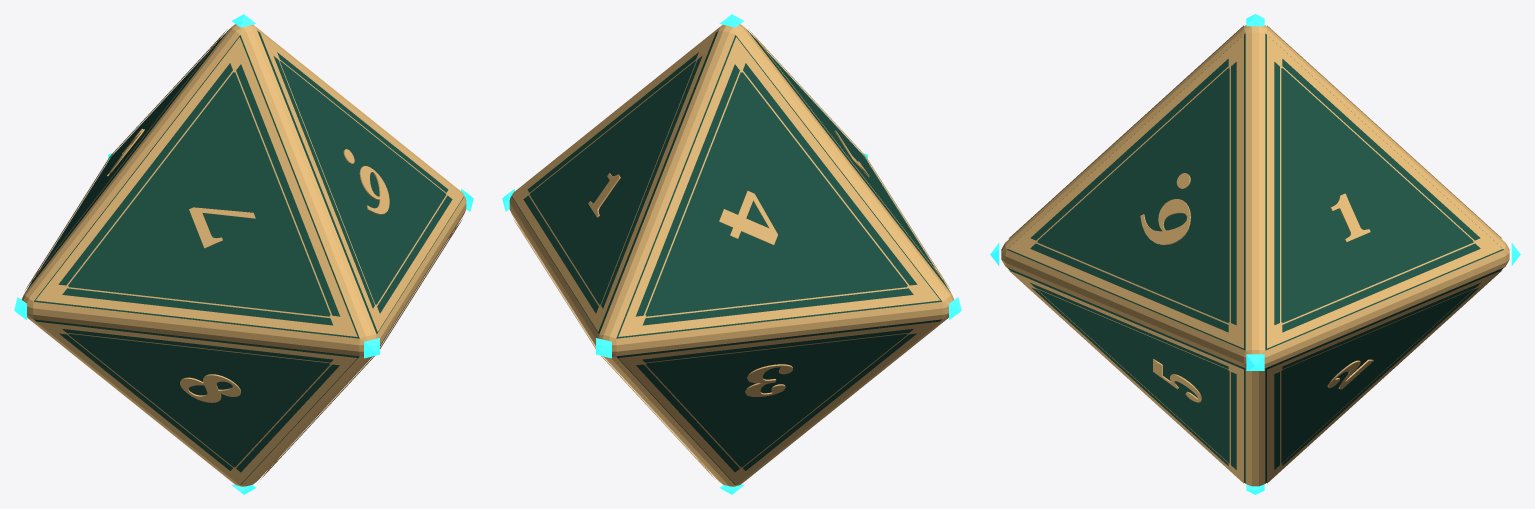
The picture shows the model from 3 angles, left to right: view 1: azimuth 30°, elevation 25°; view 2: azimuth 150°, elevation 25°; view 3: azimuth 270°, elevation 25°; orthographic projection.
Visible parts, largest first — view 1: D8_Body, D8_Inlay.004, D8_Inlay.007, D8_Inlay.005, D8_Number_8_Mesh, D8_Inlay.003, D8_Jewels, D8_Number_6._Mesh, D8_Number_7_Mesh; view 2: D8_Body, D8_Inlay.003, D8_Inlay.002, D8_Inlay, D8_Number_4_Mesh, D8_Inlay.004, D8_Jewels, D8_Number_3_Mesh; view 3: D8_Body, D8_Inlay, D8_Inlay.005, D8_Inlay.001, D8_Inlay.006, D8_Number_6._Mesh, D8_Jewels, D8_Number_1_Mesh.
Boxes of the visible parts, x1,y1,x2,y2 form: D8_Body: [21, 24, 466, 486]; D8_Inlay.004: [35, 37, 357, 336]; D8_Inlay.007: [36, 321, 357, 485]; D8_Inlay.005: [260, 32, 463, 331]; D8_Number_8_Mesh: [180, 374, 240, 402]; D8_Inlay.003: [25, 29, 227, 289]; D8_Jewels: [14, 14, 473, 494]; D8_Number_6._Mesh: [343, 149, 389, 214]; D8_Number_7_Mesh: [189, 207, 255, 248]; D8_Body: [509, 24, 954, 486]; D8_Inlay.003: [618, 37, 940, 336]; D8_Inlay.002: [618, 321, 939, 485]; D8_Inlay: [512, 32, 715, 331]; D8_Number_4_Mesh: [719, 190, 777, 245]; D8_Inlay.004: [748, 29, 950, 289]; D8_Jewels: [502, 14, 961, 494]; D8_Number_3_Mesh: [745, 364, 792, 396]; D8_Body: [1001, 25, 1509, 486]; D8_Inlay: [1267, 35, 1502, 348]; D8_Inlay.005: [1008, 35, 1243, 348]; D8_Inlay.001: [1267, 270, 1502, 483]; D8_Inlay.006: [1008, 270, 1243, 483]; D8_Number_6._Mesh: [1140, 173, 1190, 245]; D8_Jewels: [990, 14, 1520, 494]; D8_Number_1_Mesh: [1330, 193, 1370, 242].
Size of what is drawn, in the model's own units: 1.43 by 1.43 by 1.43.
